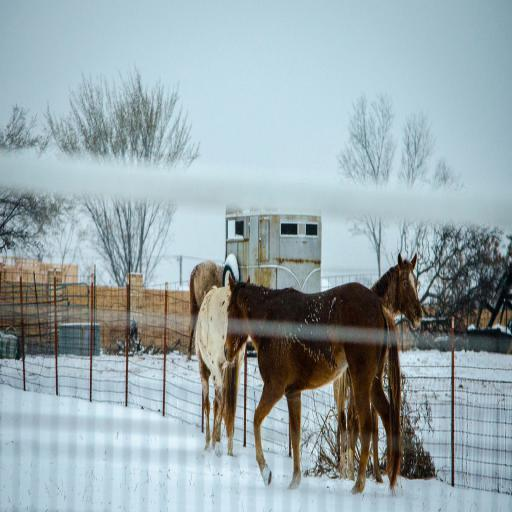horse: (222, 274, 402, 494), (332, 254, 422, 484), (194, 286, 246, 456), (186, 260, 225, 360)
